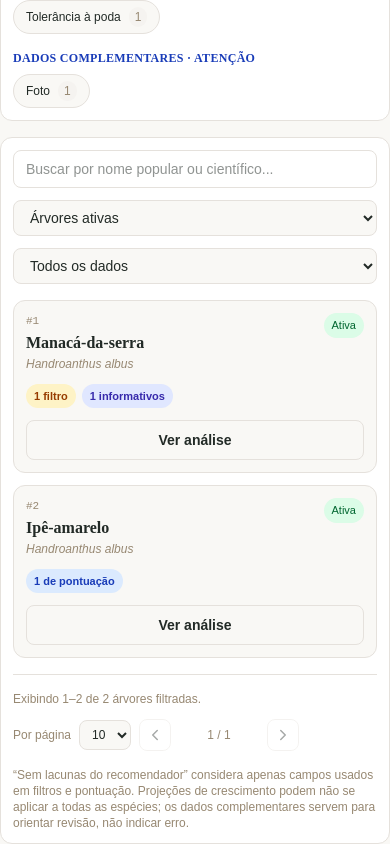
Scenario: AdminTreeQualityPage › shows detailed field state, expected format, effect and questionnaire context in the side panel
(page scrolled)
Click the button with aria-label "Ver análise de Manacá-da-serra" at x=195, y=440, box [26, 420, 364, 460]
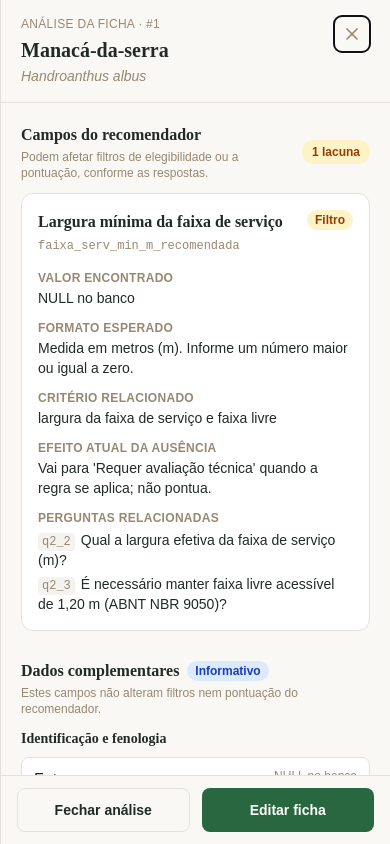
Expected: the text "faixa_serv_min_m_recomendada" is shown, [38, 239, 240, 253]
Expected: the text "Vai para 'Requer avaliação técnica' quando a regra se aplica; não pontua." is shown, [38, 458, 353, 498]
Expected: the text "Qual a largura efetiva da faixa de serviço (m)?" is shown, [38, 532, 335, 568]
